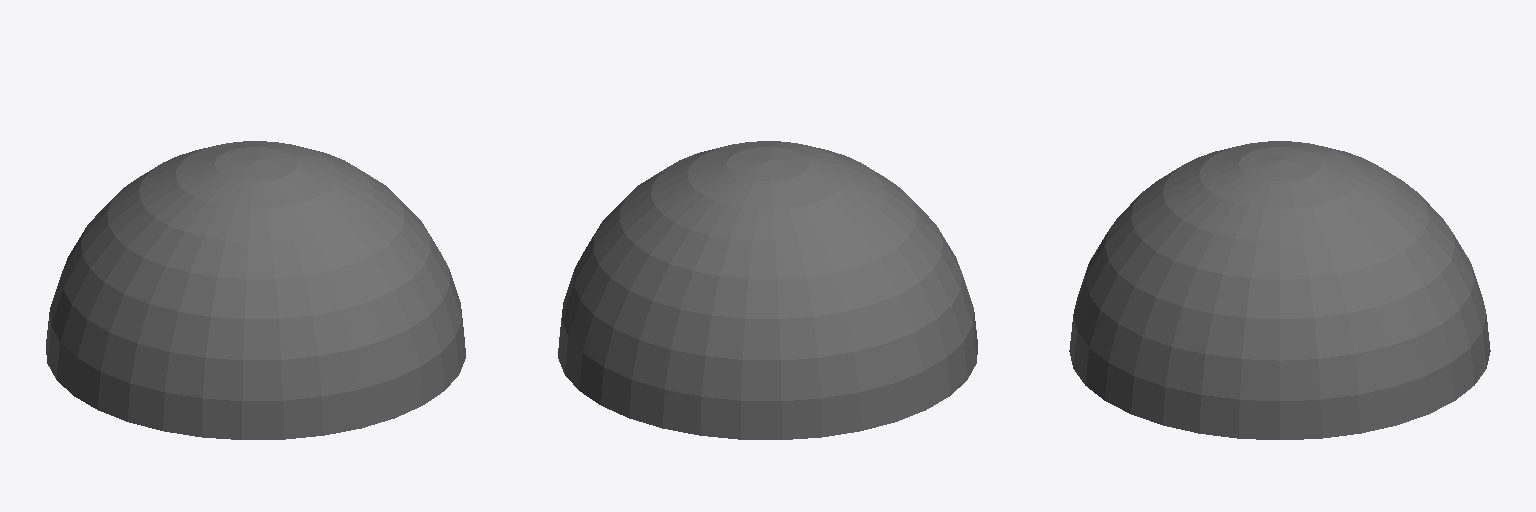
File: skydome.obj
3 renders of one model, left to right at view 1: azimuth 30°, elevation 25°; view 2: azimuth 150°, elevation 25°; view 3: azimuth 270°, elevation 25°, orthographic.
Parts seen in each view (by area): view 1: skydome; view 2: skydome; view 3: skydome.
Part boxes in pixels (left/top/right/bottom): skydome: left=46, top=141, right=465, bottom=439; skydome: left=558, top=141, right=977, bottom=439; skydome: left=1069, top=141, right=1490, bottom=439.
Bounding box in the file's own units: 1000 × 500 × 1000.